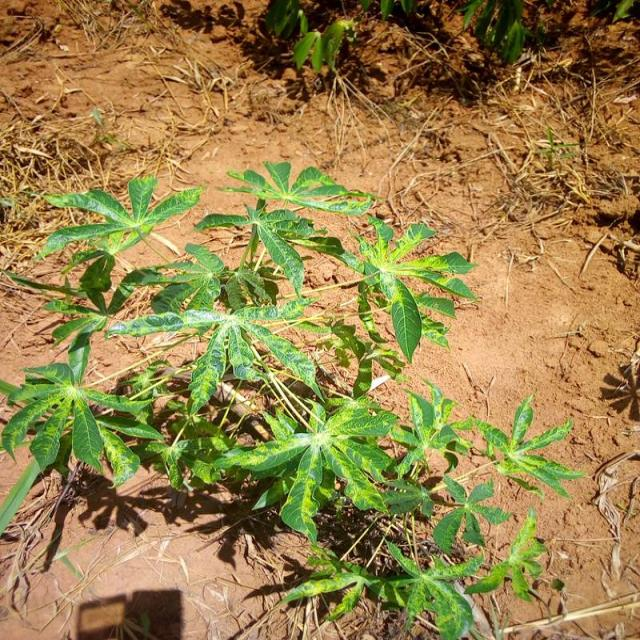cassava leaf: (1, 159, 585, 636)
